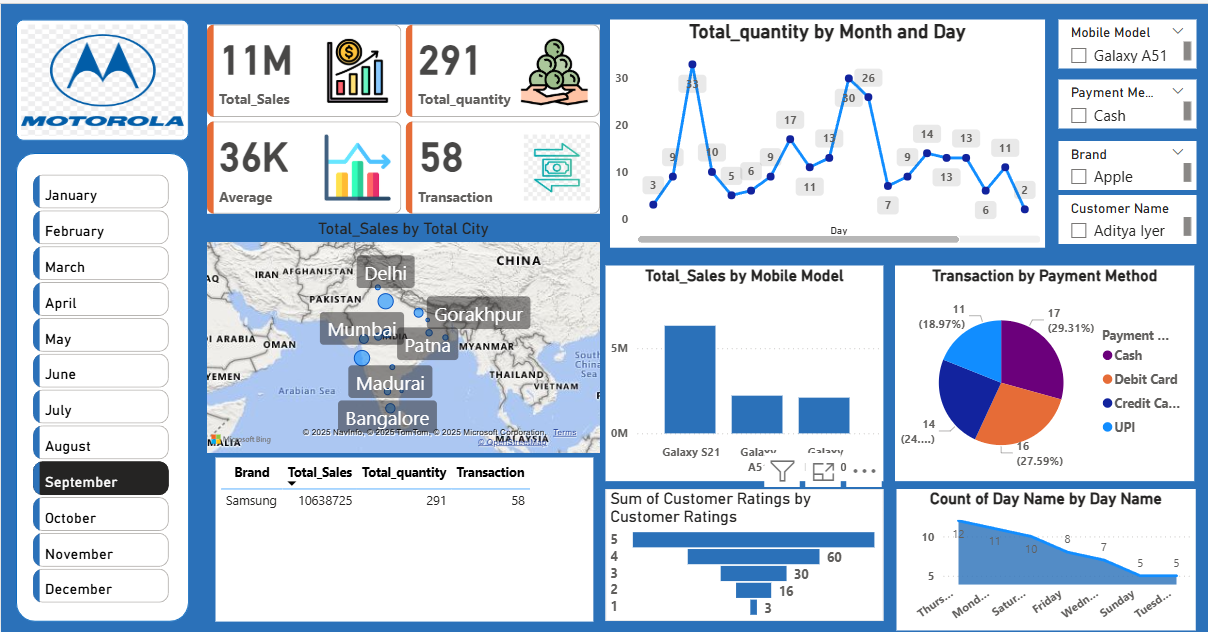

What the dashboard file says about the page in this screenshot:
{"tool":"powerbi","page":{"name":"Page 1","canvas":[1280,720],"ordinal":0},"visuals":[{"type":"shape","box":[15.1,68,183.3,128.5],"z":0},{"type":"image","box":[15.1,68,183.3,128.5],"z":1000},{"type":"shape","box":[15.1,209.8,183.3,497],"z":2000},{"type":"advancedSlicerVisual","fields":{"Values":["Sheet1.Date.Variation.Date Hierarchy.Month"]},"box":[28.3,226.8,155,464.9],"z":3000},{"type":"cardVisual","fields":{"Data":["Sheet1.Total_Sales","Sheet1.Total_quantity","Sheet1.Average","Sheet1.Transaction"]},"box":[213.5,68,427.1,211.7],"z":4000},{"type":"map","fields":{"Category":["Sheet1.City"],"Size":["Sheet1.Total_Sales"]},"box":[213.5,279.7,427.1,253.2],"z":5000},{"type":"lineChart","fields":{"Y":["Sheet1.Total_quantity"],"Category":["Sheet1.Date.Variation.Date Hierarchy.Month","Sheet1.Date.Variation.Date Hierarchy.Day"]},"box":[646.3,68,461.1,241.9],"z":6000},{"type":"clusteredColumnChart","fields":{"Y":["Sheet1.Total_Sales"],"Category":["Sheet1.Mobile Model"]},"box":[640.6,328.8,294.8,228.7],"z":7000},{"type":"pieChart","fields":{"Y":["Sheet1.Transaction"],"Category":["Sheet1.Payment Method"]},"box":[948.7,328.8,317.5,228.7],"z":8000},{"type":"funnel","fields":{"Category":["Sheet1.Customer Ratings"],"Y":["Sheet1.Customer Ratings"]},"box":[640.6,566.9,294.8,139.8],"z":9000},{"type":"areaChart","fields":{"Category":["Sheet1.Day Name"],"Y":["Sheet1.Day Name"]},"box":[949,567,317,150],"z":10000},{"type":"tableEx","fields":{"Values":["Sheet1.Brand","Sheet1.Total_Sales","Sheet1.Total_quantity","Sheet1.Transaction"]},"box":[226.8,532.9,400.6,173.9],"z":11000},{"type":"slicer","fields":{"Values":["Sheet1.Mobile Model"]},"box":[1120.6,68,145.5,51],"z":12000},{"type":"slicer","fields":{"Values":["Sheet1.Payment Method"]},"box":[1120.6,132.3,145.5,51],"z":13000},{"type":"slicer","fields":{"Values":["Sheet1.Brand"]},"box":[1120.6,196.5,145.5,51],"z":14000},{"type":"slicer","fields":{"Values":["Sheet1.Customer Name"]},"box":[1120.6,255.1,145.5,51],"z":15000}]}

Visuals, with their boxes in screenshot pixels (x1, y1, x2, y2):
shape: locate(17, 19, 188, 139)
image: locate(17, 19, 188, 139)
shape: locate(17, 151, 188, 614)
advancedSlicerVisual - Sheet1.Date.Variation.Date Hierarchy.Month: locate(29, 167, 174, 600)
cardVisual - Sheet1.Total_Sales x Sheet1.Total_quantity: locate(202, 19, 599, 216)
map - Sheet1.City x Sheet1.Total_Sales: locate(202, 216, 599, 452)
lineChart - Sheet1.Total_quantity x Sheet1.Date.Variation.Date Hierarchy.Month: locate(605, 19, 1034, 244)
clusteredColumnChart - Sheet1.Total_Sales x Sheet1.Mobile Model: locate(599, 262, 874, 475)
pieChart - Sheet1.Transaction x Sheet1.Payment Method: locate(886, 262, 1182, 475)
funnel - Sheet1.Customer Ratings x Sheet1.Customer Ratings: locate(599, 484, 874, 614)
areaChart - Sheet1.Day Name x Sheet1.Day Name: locate(887, 484, 1182, 623)
tableEx - Sheet1.Brand x Sheet1.Total_Sales: locate(214, 452, 587, 614)
slicer - Sheet1.Mobile Model: locate(1046, 19, 1182, 67)
slicer - Sheet1.Payment Method: locate(1046, 79, 1182, 127)
slicer - Sheet1.Brand: locate(1046, 139, 1182, 186)
slicer - Sheet1.Customer Name: locate(1046, 193, 1182, 241)
